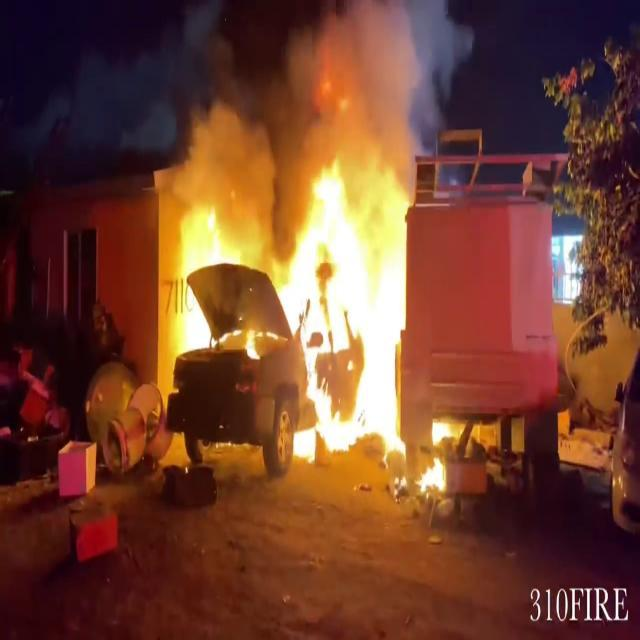Fire: (270, 103, 448, 484)
Smoke: (185, 0, 475, 176)
